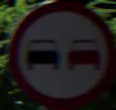No overtake: (9, 12, 111, 93)
